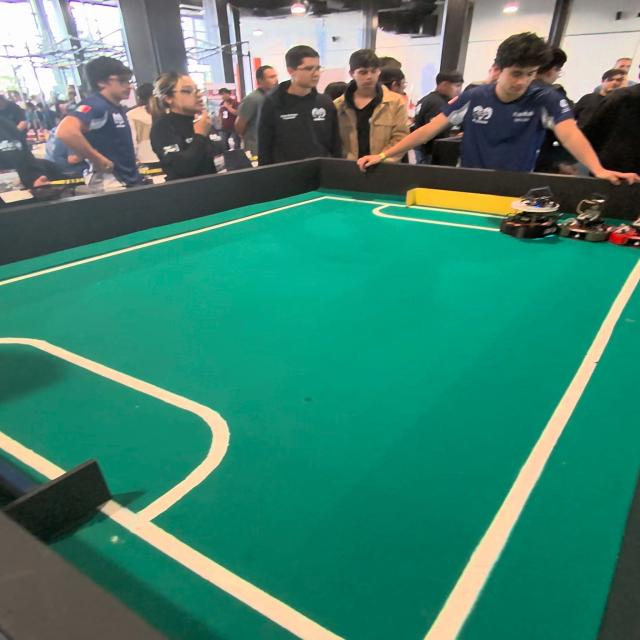Robot: (500, 185, 561, 246), (564, 190, 600, 247), (605, 204, 640, 256)
